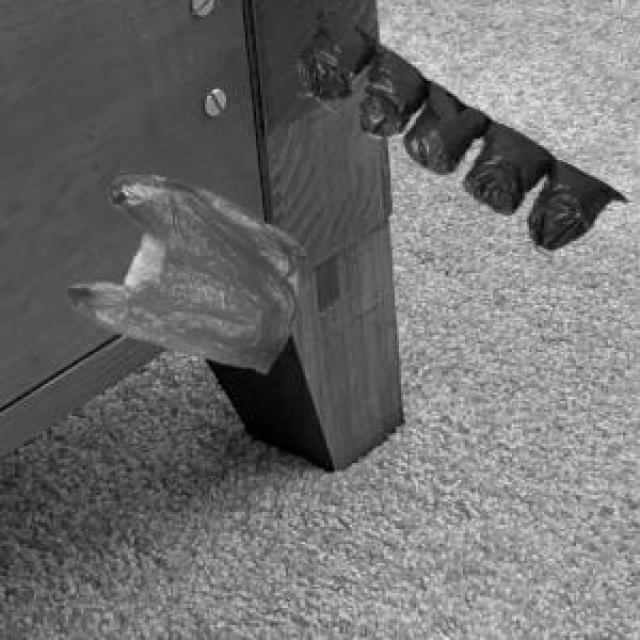miscellaneous trash: (292, 6, 623, 245)
